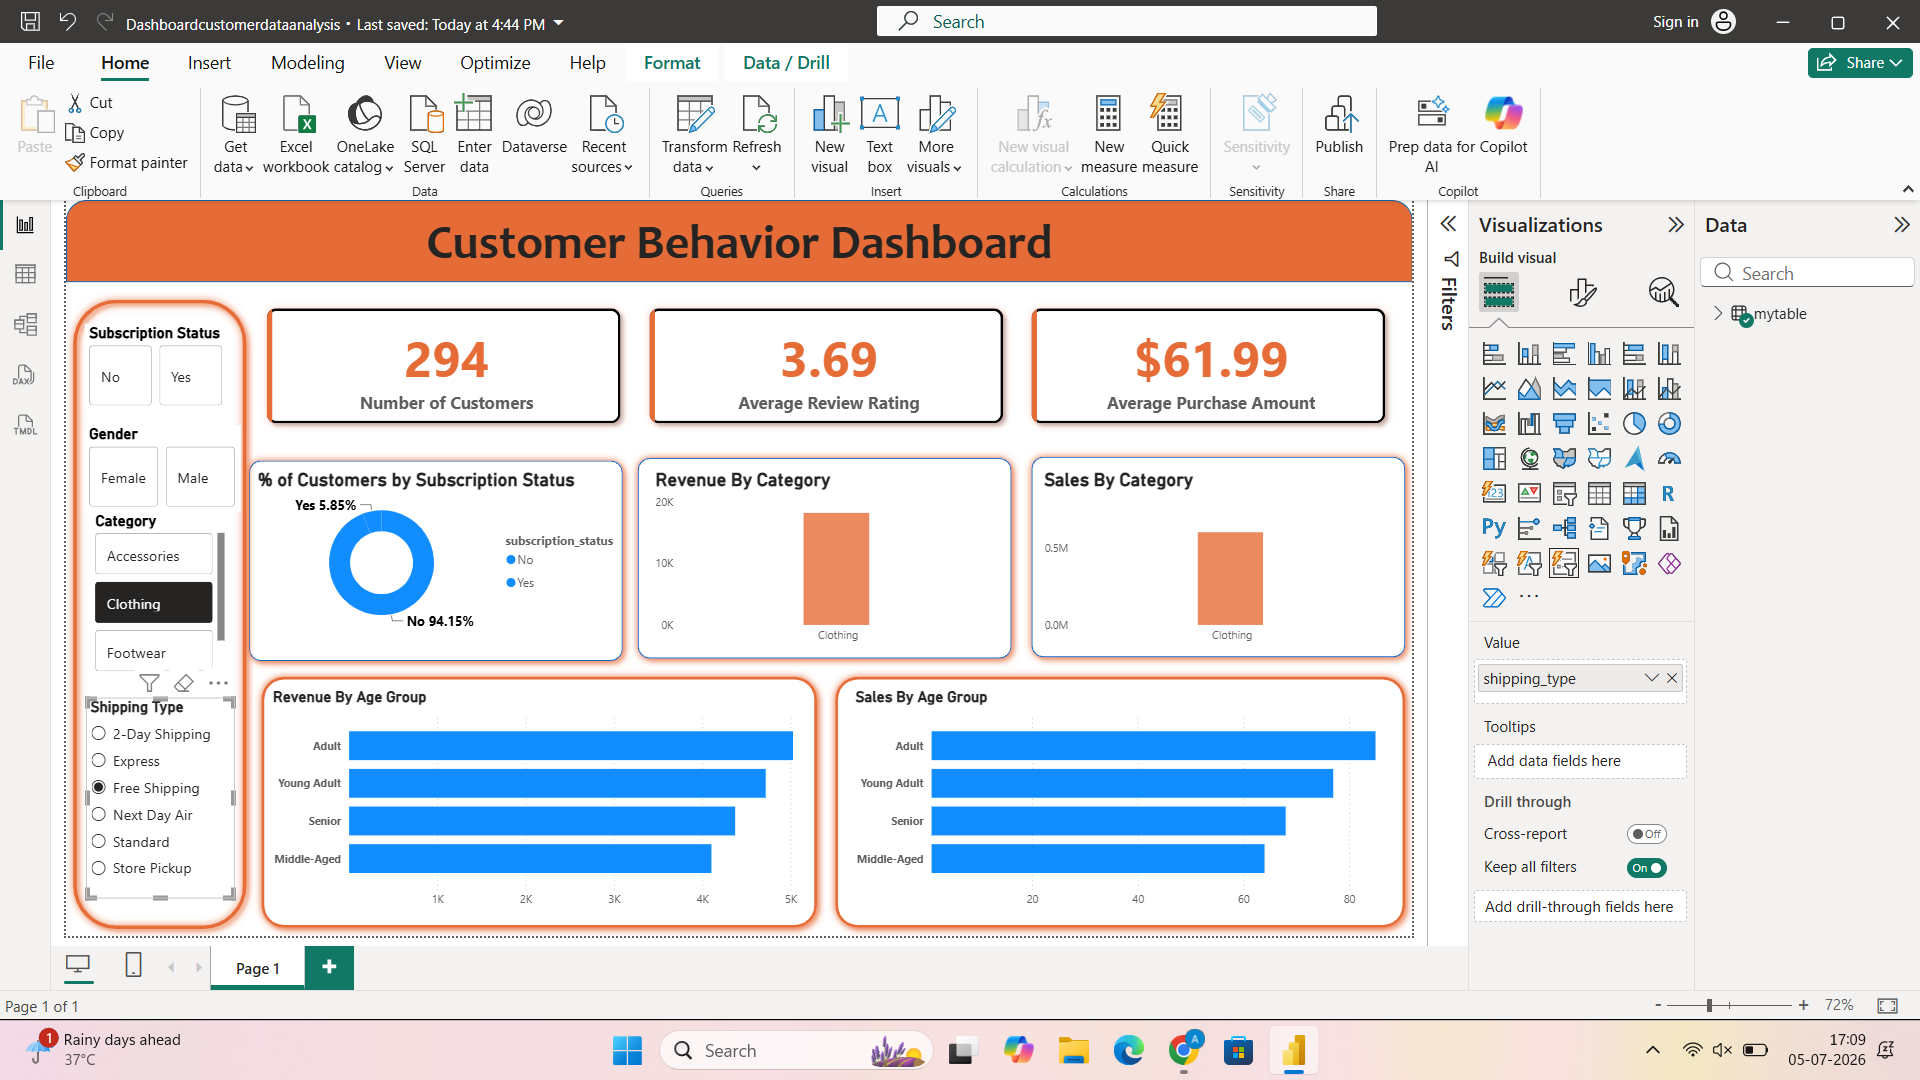

The page's visual inventory and layout, read from the dashboard file:
{"tool":"powerbi","page":{"name":"Page 1","canvas":[1500,820],"ordinal":0},"visuals":[{"type":"cardVisual","fields":{"Data":["mytable.Number of Customers","mytable.Average Review Rating","mytable.Average Purchase Amount"]},"box":[194.6,91.7,1305.8,186.5],"z":0},{"type":"shape","box":[0,0,1500.3,91.7],"z":1000},{"type":"textbox","box":[0,9.6,1500.3,75.6],"z":2000},{"type":"shape","box":[628.8,278.2,434.2,241.2],"z":3000},{"type":"shape","box":[1066.1,276.6,434.2,241.2],"z":4000},{"type":"shape","box":[194.6,281.4,434.2,241.2],"z":5000},{"type":"group","id":"g1","title":"Group 1","box":[209,299.1,419.7,186.5],"z":6000},{"type":"donutChart","title":"% of Customers by Subscription Status","fields":{"Category":["mytable.subscription_status"],"Y":["Sum(mytable.customer_id)"]},"box":[209,299.1,419.7,186.5],"z":7000,"group":"g1"},{"type":"clusteredColumnChart","title":"Revenue By Category","fields":{"Y":["Sum(mytable.purchase_amount_usd)"],"Category":["mytable.category"]},"box":[651.3,299.1,387.5,204.2],"z":7000},{"type":"clusteredColumnChart","title":"Sales  By Category","fields":{"Y":["Sum(mytable.customer_id)"],"Category":["mytable.category"]},"box":[1085.4,299.1,392.4,204.2],"z":8000},{"type":"shape","box":[0,102.9,209,717.2],"z":9000},{"type":"advancedSlicerVisual","title":"Subscription Status","fields":{"Values":["mytable.subscription_status"]},"box":[20.9,138.3,159.2,96.5],"z":10000},{"type":"advancedSlicerVisual","title":"Gender","fields":{"Values":["mytable.gender"]},"box":[20.9,250.9,173.7,96.5],"z":11000},{"type":"advancedSlicerVisual","title":"Category","fields":{"Values":["mytable.category"]},"box":[27.3,347.3,154.4,184.9],"z":12000},{"type":"listSlicer","title":"Shipping Type","fields":{"Values":["mytable.shipping_type"]},"box":[22.5,554.8,165.6,223.5],"z":13000},{"type":"shape","box":[209,522.6,636.8,297.5],"z":14000},{"type":"clusteredBarChart","title":"Revenue By Age Group","fields":{"Y":["Sum(mytable.purchase_amount_usd)"],"Category":["mytable.age_group"]},"box":[225.1,543.5,596.6,254.1],"z":15000},{"type":"shape","box":[847.5,522.6,652.9,297.5],"z":16000},{"type":"clusteredBarChart","title":"Sales By Age Group","fields":{"Y":["CountNonNull(mytable.customer_id)"],"Category":["mytable.age_group"]},"box":[874.8,543.5,596.6,254.1],"z":16001}]}

Visuals, with their boxes on the page's 1500x820 design canvas (x1, y1, x2, y2). These are canvas units, not pixel positions in the 1920x1080 screenshot, which may show the page scaled, cropped or inside an application window:
cardVisual - mytable.Number of Customers x mytable.Average Review Rating: box=[195, 92, 1500, 278]
shape: box=[0, 0, 1500, 92]
textbox: box=[0, 10, 1500, 85]
shape: box=[629, 278, 1063, 519]
shape: box=[1066, 277, 1500, 518]
shape: box=[195, 281, 629, 523]
"Group 1" group: box=[209, 299, 629, 486]
"% of Customers by Subscription Status" donutChart: box=[209, 299, 629, 486]
"Revenue By Category" clusteredColumnChart: box=[651, 299, 1039, 503]
"Sales  By Category" clusteredColumnChart: box=[1085, 299, 1478, 503]
shape: box=[0, 103, 209, 820]
"Subscription Status" advancedSlicerVisual: box=[21, 138, 180, 235]
"Gender" advancedSlicerVisual: box=[21, 251, 195, 347]
"Category" advancedSlicerVisual: box=[27, 347, 182, 532]
"Shipping Type" listSlicer: box=[22, 555, 188, 778]
shape: box=[209, 523, 846, 820]
"Revenue By Age Group" clusteredBarChart: box=[225, 544, 822, 798]
shape: box=[848, 523, 1500, 820]
"Sales By Age Group" clusteredBarChart: box=[875, 544, 1471, 798]
